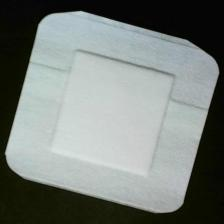Dressing: (5, 11, 220, 215)
